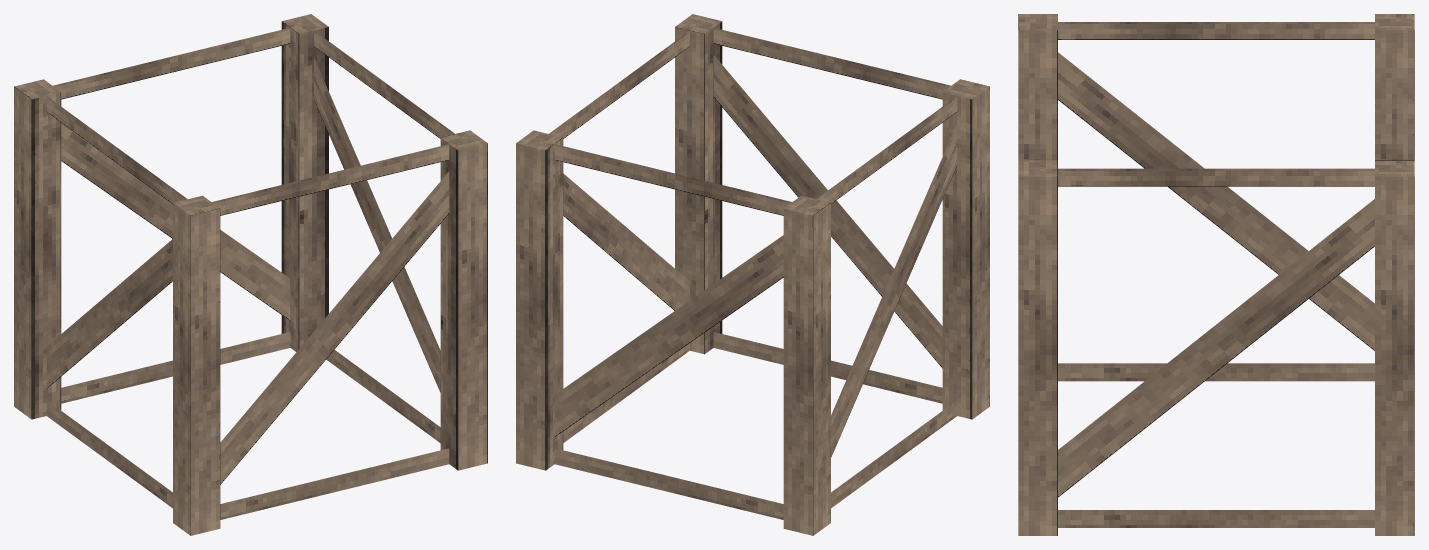
File: structure-cross_lev3.glb
The picture shows the model from 3 angles, left to right: view 1: azimuth 30°, elevation 25°; view 2: azimuth 150°, elevation 25°; view 3: azimuth 270°, elevation 25°; orthographic projection. The views are drawn at different scales.
Parts seen in each view (by area): view 1: structure-cross_lev3; view 2: structure-cross_lev3; view 3: structure-cross_lev3.
Boxes of the visible parts, x1,y1,x2,y2 form: structure-cross_lev3: (14, 14, 487, 535); structure-cross_lev3: (516, 14, 989, 535); structure-cross_lev3: (1018, 14, 1414, 535).
Bounding box in the file's own units: 8.95 × 9.21 × 9.21.
Materials: 1 (1 with a texture image).
